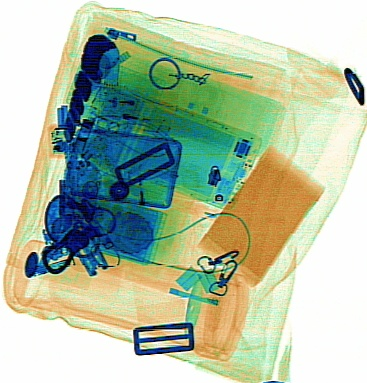lighter: (98, 85, 178, 115), (97, 109, 170, 140), (123, 161, 151, 223)
